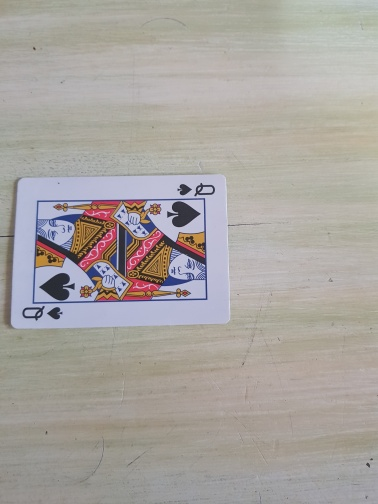queen: (9, 174, 232, 330)
